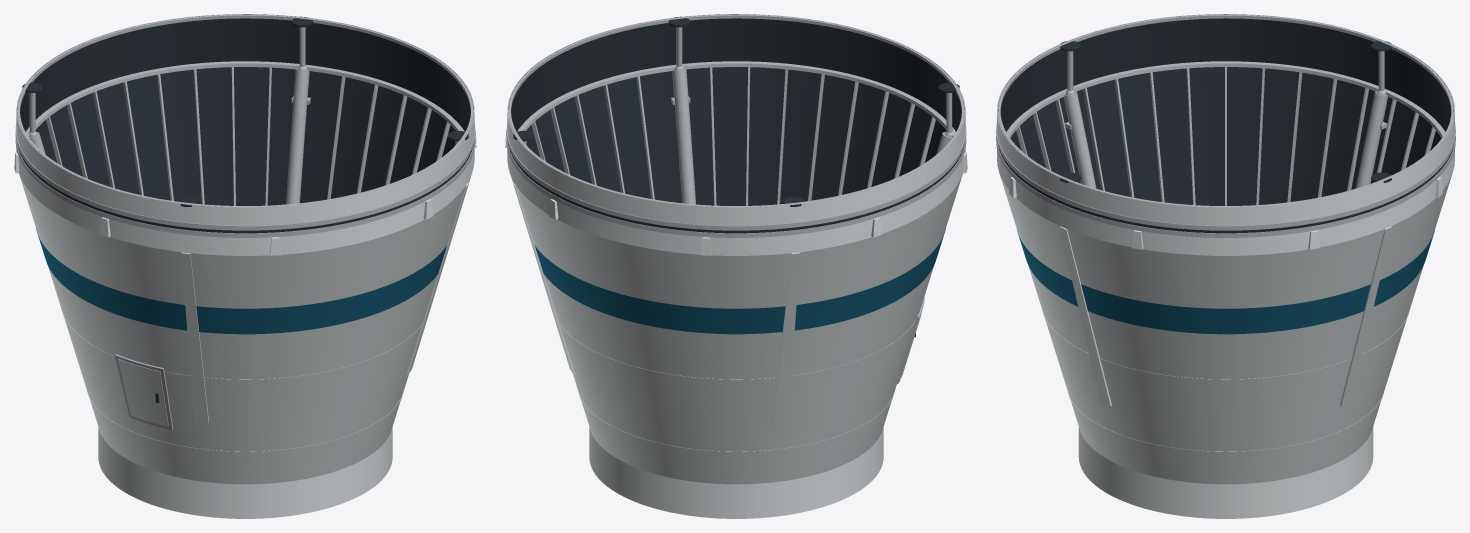
Rendered from interstage_pneumatic_d54_to_d84.fbx.
3 views of the same model, side by side, from view 1: azimuth 30°, elevation 25°; view 2: azimuth 150°, elevation 25°; view 3: azimuth 270°, elevation 25° (orthographic).
Visible parts, largest first — view 1: interstage_pneumatic_d54_to_d84_LOD0; view 2: interstage_pneumatic_d54_to_d84_LOD0; view 3: interstage_pneumatic_d54_to_d84_LOD0.
Boxes of the visible parts, x1,y1,x2,y2 form: interstage_pneumatic_d54_to_d84_LOD0: (14, 14, 476, 518); interstage_pneumatic_d54_to_d84_LOD0: (505, 14, 967, 518); interstage_pneumatic_d54_to_d84_LOD0: (996, 14, 1455, 518).
Size of what is drawn, in the model's own units: 8.43 by 7 by 8.43.
